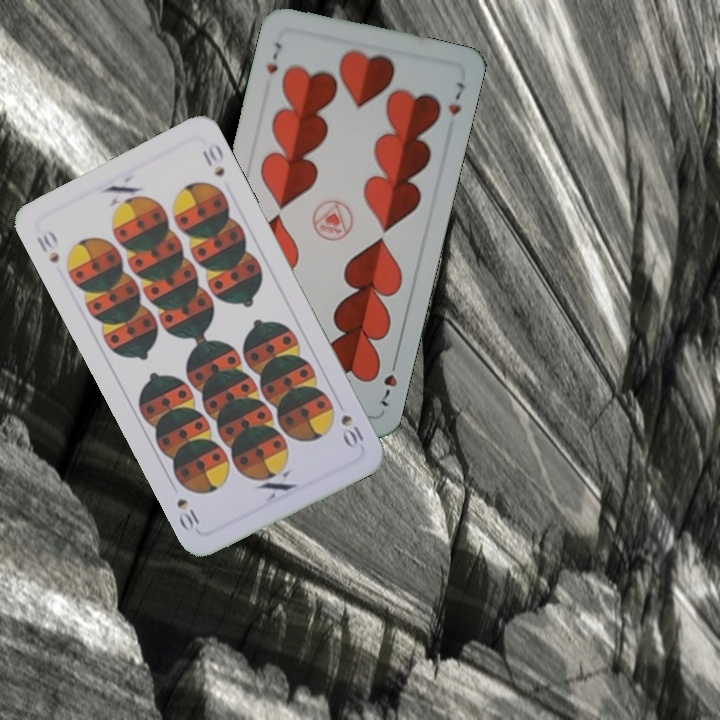H7: (376, 353, 400, 410), (262, 38, 285, 77)
S10: (337, 410, 367, 451), (32, 226, 62, 266)
